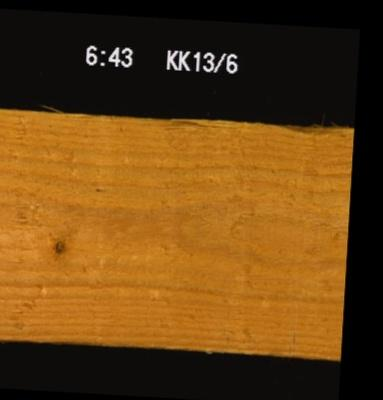dry_knot: (51, 235, 67, 256)
split: (171, 121, 351, 147)
